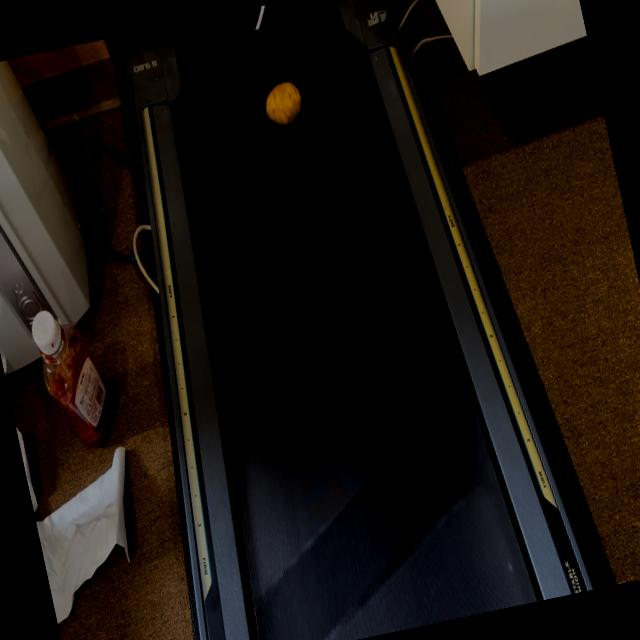Trash: (258, 75, 310, 134)
